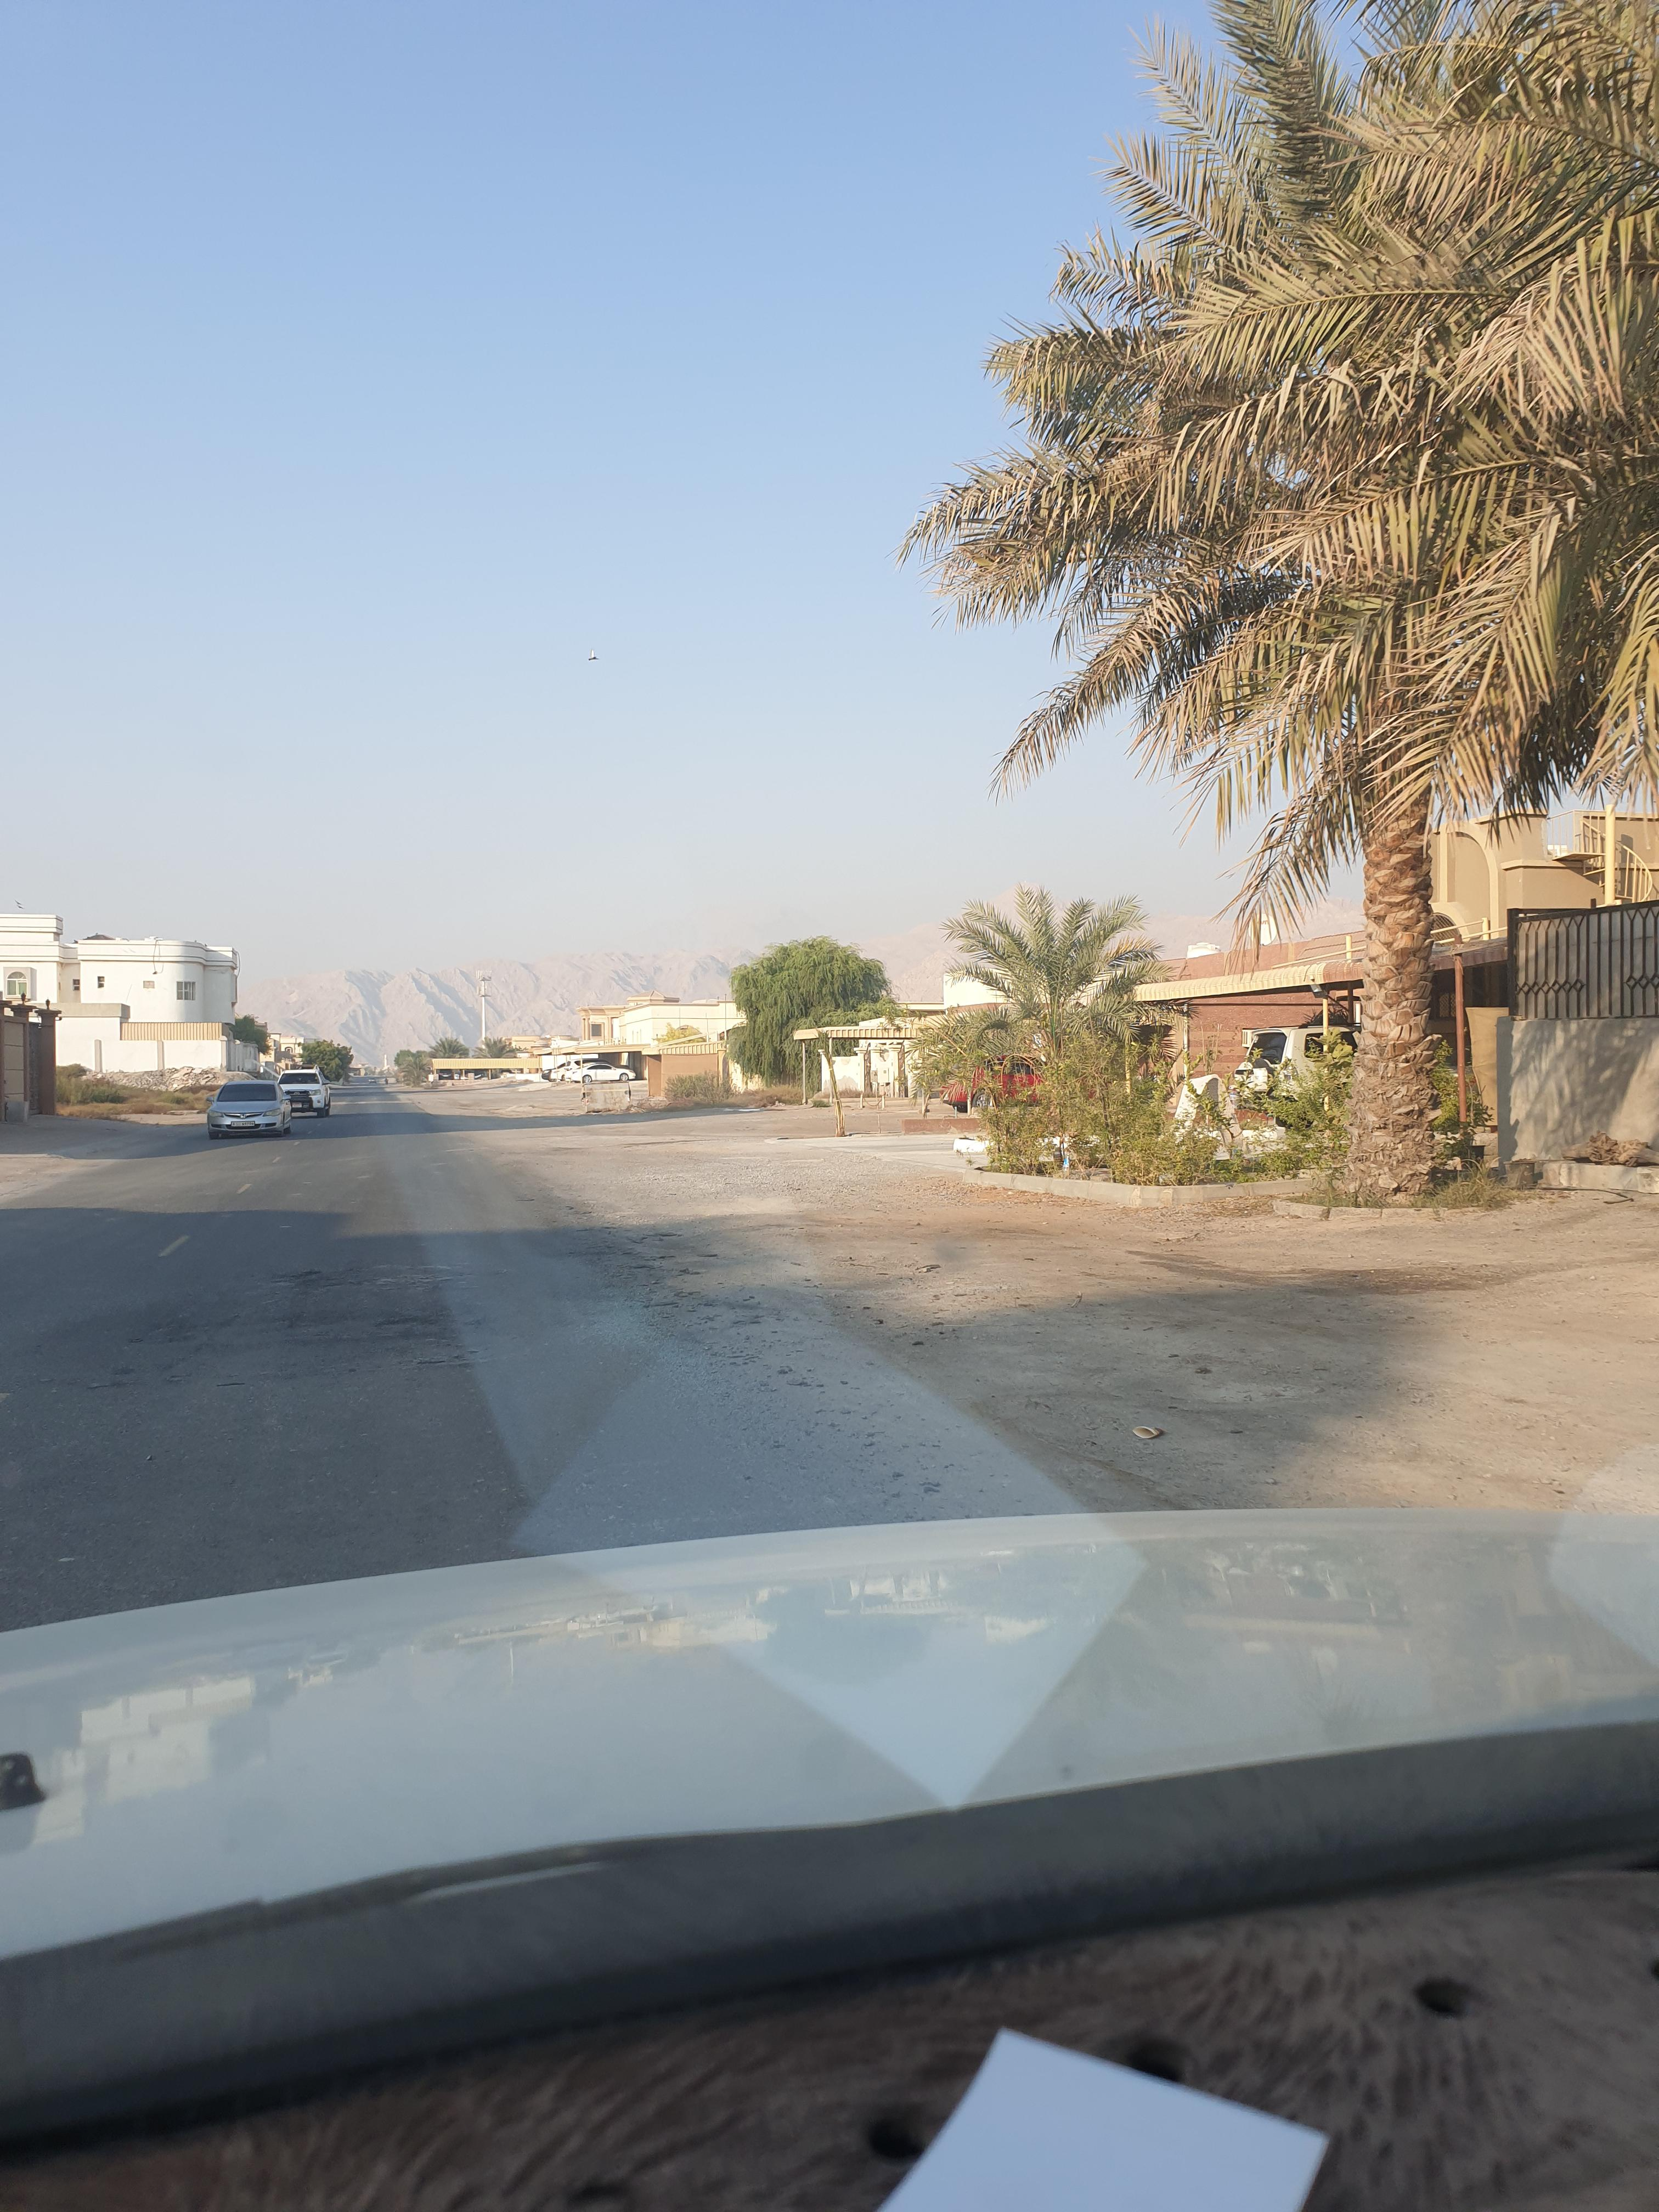fallen_trees: (1553, 1132, 1659, 1179)
